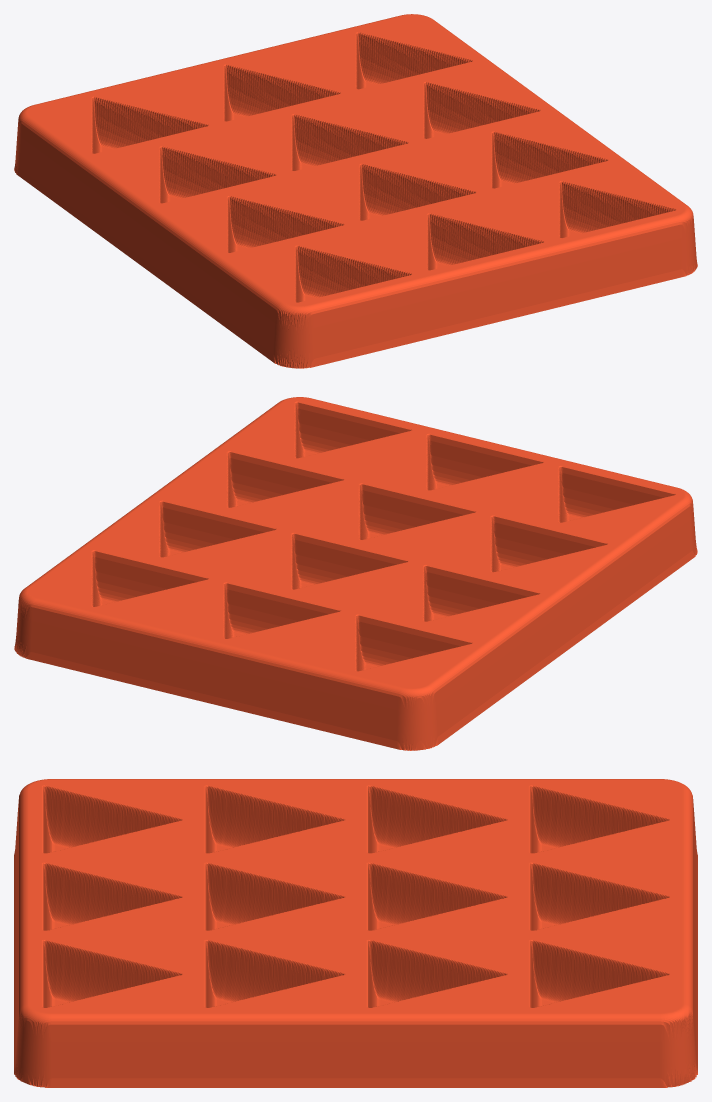
Rendered from mold.glb.
3 views of the same model, one above another, from view 1: azimuth 30°, elevation 25°; view 2: azimuth 150°, elevation 25°; view 3: azimuth 270°, elevation 25° (orthographic). The views are drawn at different scales.
Visible parts, largest first — view 1: geometry_0; view 2: geometry_0; view 3: geometry_0.
Boxes of the visible parts, x1,y1,x2,y2 form: geometry_0: (14,14,697,368); geometry_0: (14,397,697,750); geometry_0: (14,779,697,1087).
Size of the model in its own units: 0.141 by 0.0182 by 0.1655.
